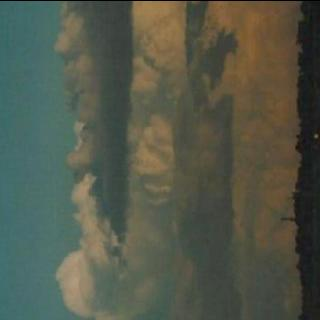Stratocumulus: (19, 0, 303, 320)
